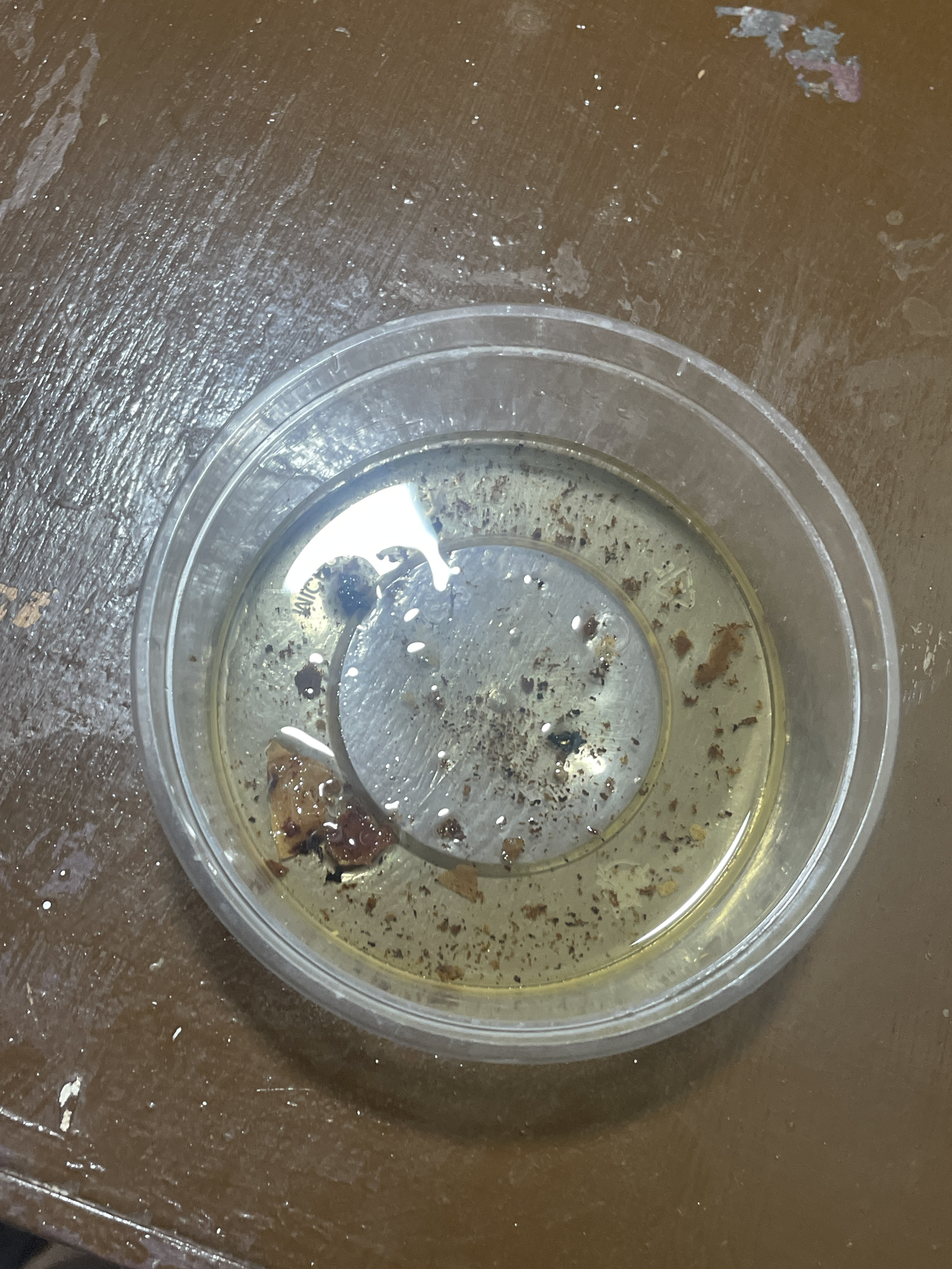non-reusable: (180, 438, 810, 1016)
